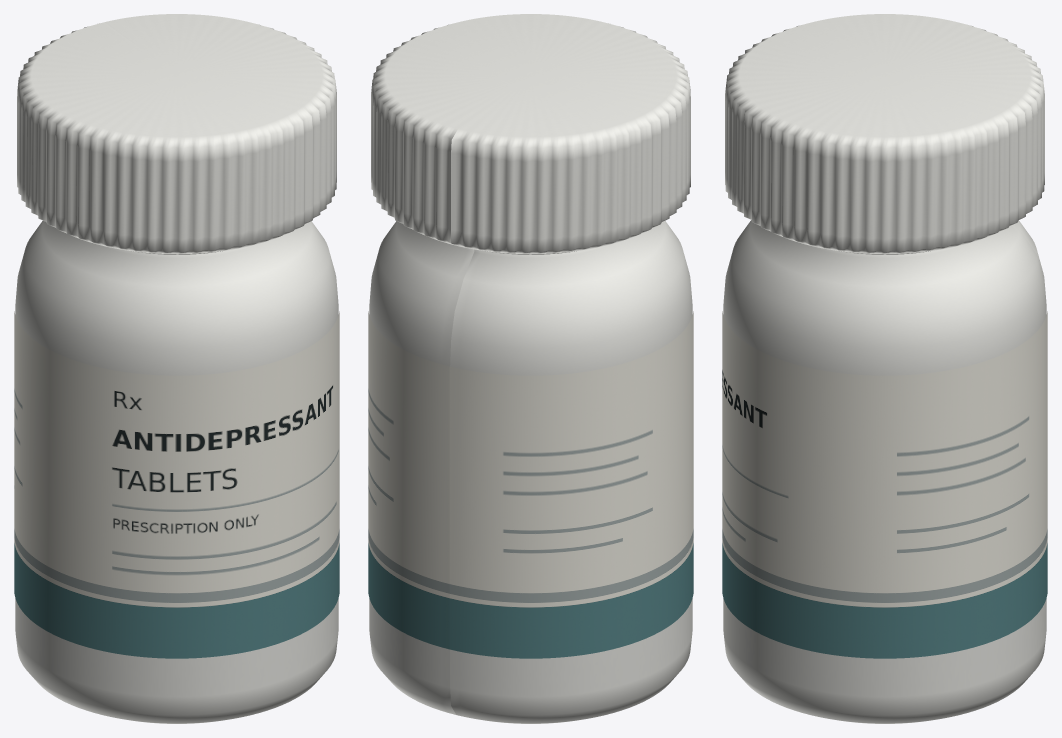
Rendered from Medication_Bottle.glb.
3 renders of one model, left to right at view 1: azimuth 30°, elevation 25°; view 2: azimuth 150°, elevation 25°; view 3: azimuth 270°, elevation 25°, orthographic.
Visible parts, largest first — view 1: Bottle_Label, White_Plastic_Ribbed_Cap, White_Plastic_Body; view 2: Bottle_Label, White_Plastic_Ribbed_Cap, White_Plastic_Body; view 3: Bottle_Label, White_Plastic_Ribbed_Cap, White_Plastic_Body.
Part boxes in pixels (left/top/right/bottom): Bottle_Label: left=14, top=311, right=339, bottom=658; White_Plastic_Ribbed_Cap: left=17, top=14, right=336, bottom=254; White_Plastic_Body: left=15, top=220, right=338, bottom=723; Bottle_Label: left=368, top=311, right=693, bottom=658; White_Plastic_Ribbed_Cap: left=371, top=14, right=690, bottom=254; White_Plastic_Body: left=369, top=221, right=692, bottom=723; Bottle_Label: left=722, top=311, right=1047, bottom=658; White_Plastic_Ribbed_Cap: left=725, top=14, right=1044, bottom=254; White_Plastic_Body: left=723, top=220, right=1046, bottom=723.
Bounding box in the file's own units: 0.0459 × 0.092 × 0.0459.
Materials: 2 (2 with a texture image).
